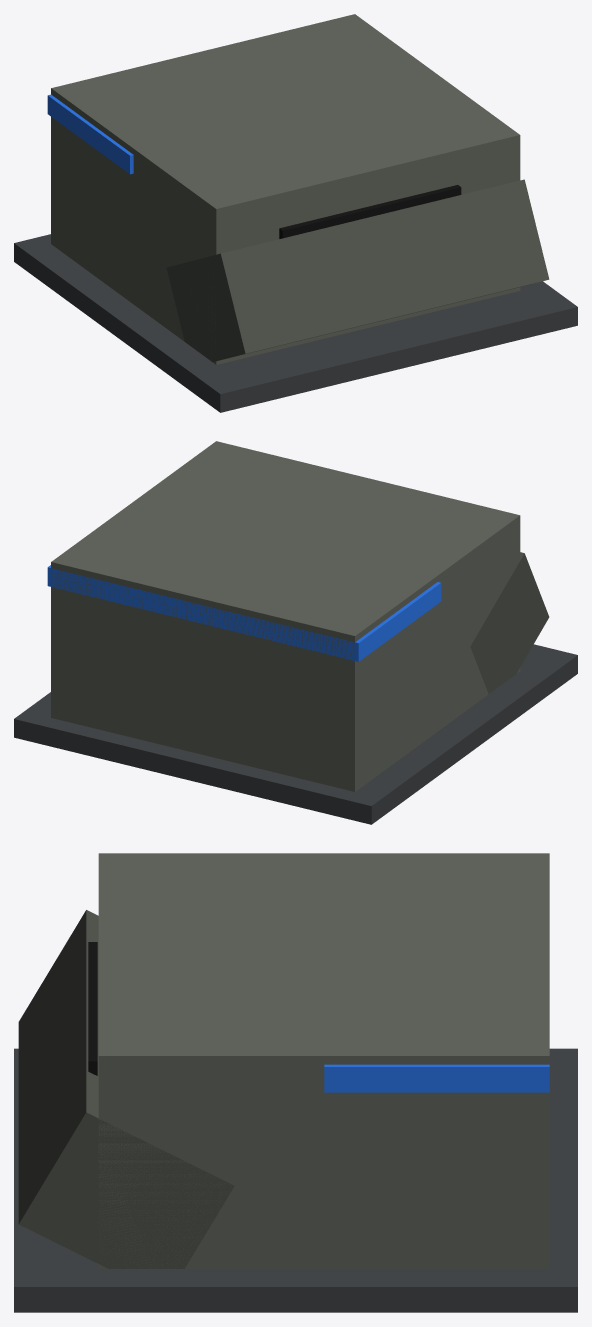
File: eu_bunker.glb
The picture shows the model from 3 angles, top to bottom: view 1: azimuth 30°, elevation 25°; view 2: azimuth 150°, elevation 25°; view 3: azimuth 270°, elevation 25°; orthographic projection. The views are drawn at different scales.
Visible parts, largest first — view 1: main, slope, base, slit, team_band; view 2: main, base, team_band, slope; view 3: main, slope, base, team_band, slit.
Boxes of the visible parts, <box> form: main: <box>51,14,520,364</box>; slope: <box>166,179,549,362</box>; base: <box>14,234,577,412</box>; slit: <box>279,185,461,238</box>; team_band: <box>47,94,133,174</box>; main: <box>51,441,520,791</box>; base: <box>14,644,577,824</box>; team_band: <box>47,565,441,661</box>; slope: <box>470,552,549,693</box>; main: <box>98,853,549,1268</box>; slope: <box>18,910,234,1268</box>; base: <box>14,1048,577,1312</box>; team_band: <box>324,1064,549,1092</box>; slit: <box>88,942,97,1075</box>.
Size of the model in its own units: 6 by 2.84 by 6.
